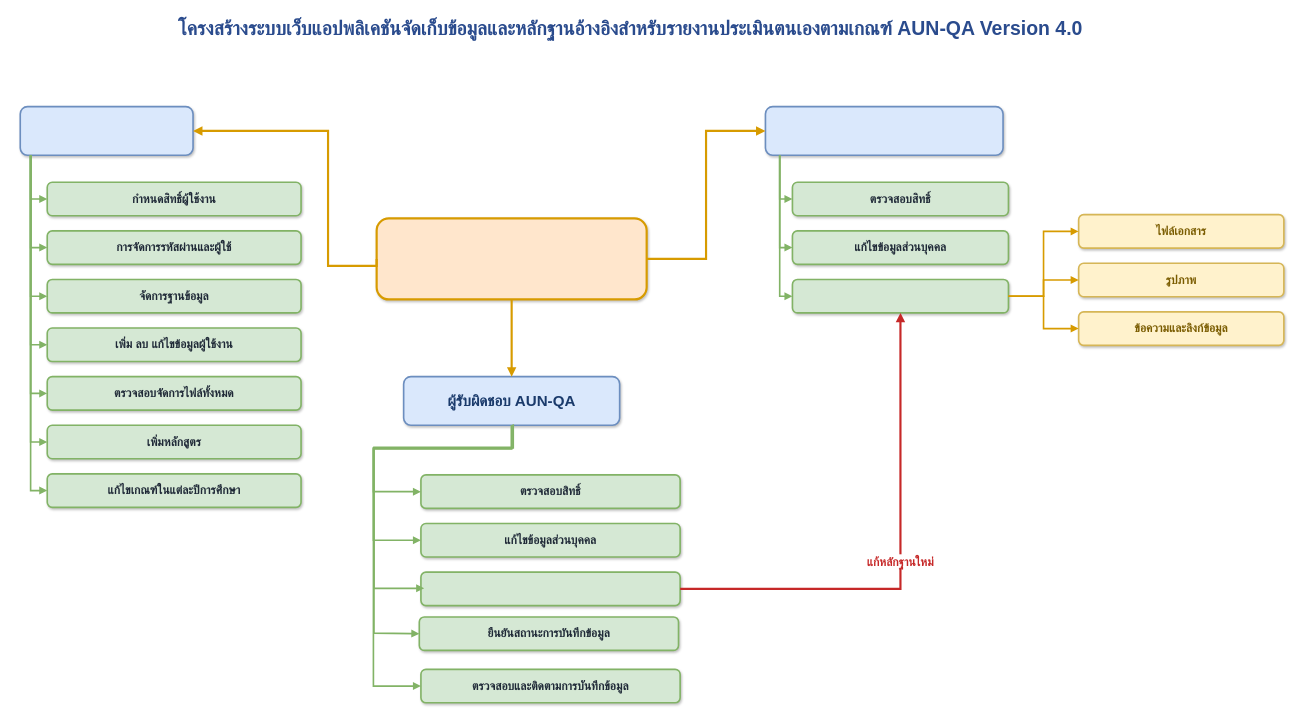
The diagram is 1297 pixels wide and 717 high, and some of its shapes have lost their labels. Each missing label, with the centre of its shape:
ตรวจสอบแนบหลักฐาน: the point at 551,589
ผู้ดูแลระบบ: the point at 107,131
ระบบเว็บแอปพลิเคชันสำหรับการรายงานประเมินตนเองตามเกณฑ์ AUN-QAVersion 4.0: the point at 512,259
อาจารย์ (ผู้ใช้งาน): the point at 884,131
แนบหลักฐาน: the point at 900,296
